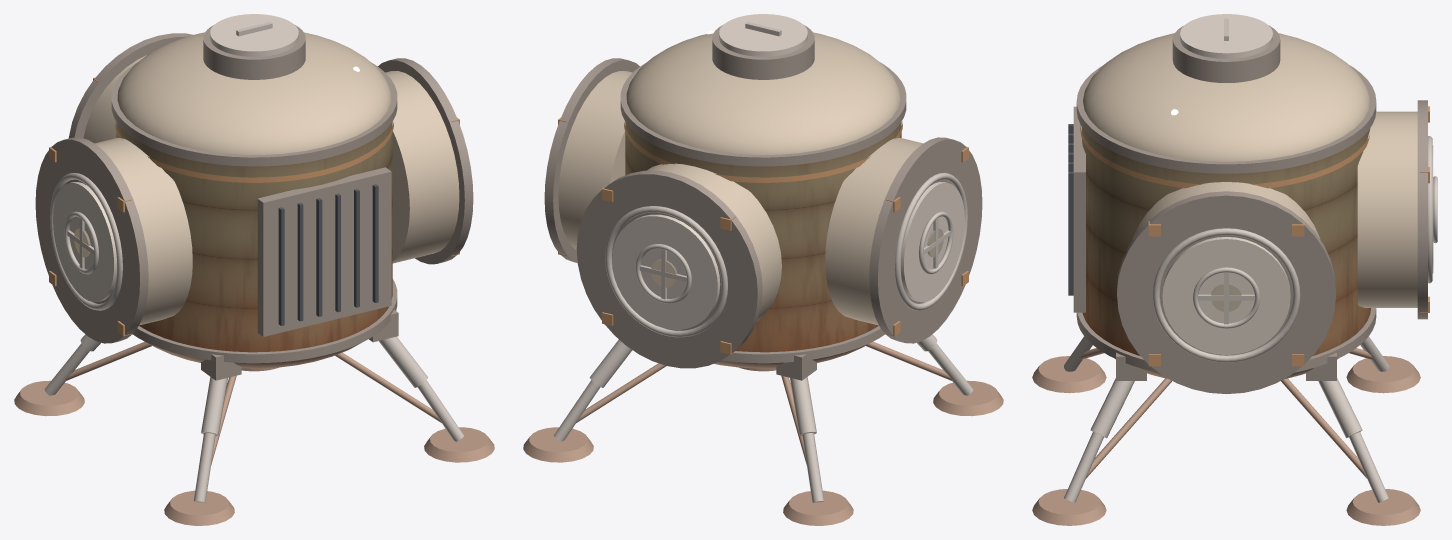
File: W04_node_3ports.glb
3 views of the same model, side by side, from view 1: azimuth 30°, elevation 25°; view 2: azimuth 150°, elevation 25°; view 3: azimuth 270°, elevation 25° (orthographic). The views are drawn at different scales.
Visible parts, largest first — view 1: top_dome, hull, port_tunnel (×3), port_flange (×3), service_panel, ring (×2), footpad (×3), port_door, radiator_fin (×6), top_hatch_lid, top_hatch_collar, leg_piston (×3) (+7 smaller); view 2: port_flange (×3), top_dome, port_tunnel (×3), hull, port_door (×2), ring (×2), footpad (×3), port_seal (×2), top_hatch_lid, top_hatch_collar, leg_piston (×3), leg_upper (×2) (+4 smaller); view 3: top_dome, port_flange (×2), hull, port_tunnel (×2), port_door, footpad (×4), ring (×2), port_seal (×2), top_hatch_lid, top_hatch_collar, service_panel, leg_upper (×2) (+8 smaller).
Boxes of the visible parts, <box> form: top_dome: <box>117,32,391,154</box>; hull: <box>116,122,392,352</box>; port_tunnel (×3): <box>83,55,459,325</box>; port_flange (×3): <box>35,33,473,343</box>; service_panel: <box>257,167,391,336</box>; ring (×2): <box>111,62,397,363</box>; footpad (×3): <box>14,380,494,525</box>; port_door: <box>53,182,116,302</box>; radiator_fin (×6): <box>278,184,378,325</box>; top_hatch_lid: <box>210,14,298,56</box>; top_hatch_collar: <box>203,25,305,79</box>; leg_piston (×3): <box>44,343,464,502</box>; port_flange (×3): <box>544,58,982,368</box>; top_dome: <box>626,32,900,154</box>; port_tunnel (×3): <box>558,71,923,325</box>; hull: <box>625,122,901,352</box>; port_door (×2): <box>612,182,964,329</box>; ring (×2): <box>620,62,906,363</box>; footpad (×3): <box>523,380,1003,525</box>; port_seal (×2): <box>605,172,967,337</box>; top_hatch_lid: <box>719,14,807,56</box>; top_hatch_collar: <box>712,25,814,79</box>; leg_piston (×3): <box>553,343,973,502</box>; leg_upper (×2): <box>589,339,816,436</box>; top_dome: <box>1083,33,1370,161</box>; port_flange (×2): <box>1117,100,1427,393</box>; hull: <box>1082,127,1370,355</box>; port_tunnel (×2): <box>1132,111,1417,307</box>; port_door: <box>1162,237,1290,354</box>; footpad (×4): <box>1032,356,1420,525</box>; ring (×2): <box>1076,65,1376,372</box>; port_seal (×2): <box>1152,136,1432,362</box>; top_hatch_lid: <box>1180,14,1272,58</box>; top_hatch_collar: <box>1172,25,1280,82</box>; service_panel: <box>1073,106,1085,312</box>; leg_upper (×2): <box>1090,378,1362,438</box>.
Size of the model in its own units: 4.09 by 4.45 by 3.92.
Materials: 10 (1 with a texture image).
